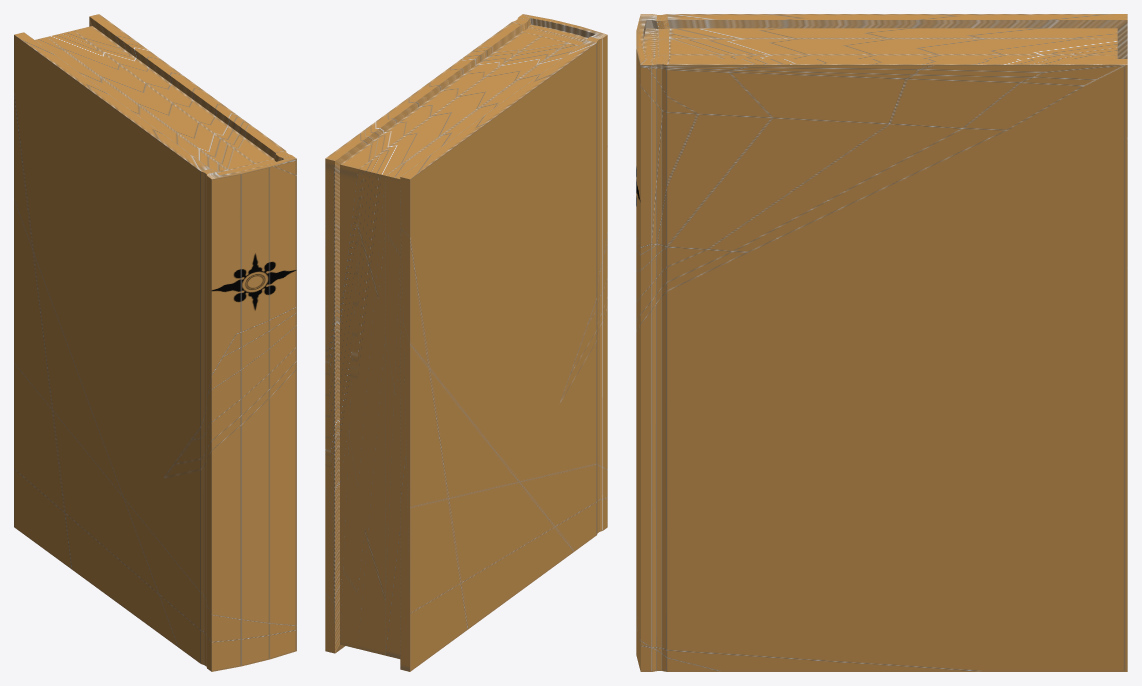
File: book4.fbx
3 renders of one model, left to right at view 1: azimuth 30°, elevation 25°; view 2: azimuth 150°, elevation 25°; view 3: azimuth 270°, elevation 25°, orthographic. The views are drawn at different scales.
Visible parts, largest first — view 1: Architexture; view 2: Architexture; view 3: Architexture.
Part boxes in pixels (<box>): Architexture: <box>14,14,296,671</box>; Architexture: <box>325,14,607,671</box>; Architexture: <box>636,14,1127,671</box>.
Bounding box in the file's own units: 2.71 × 15 × 11.01.
1 material, 1 textured.
